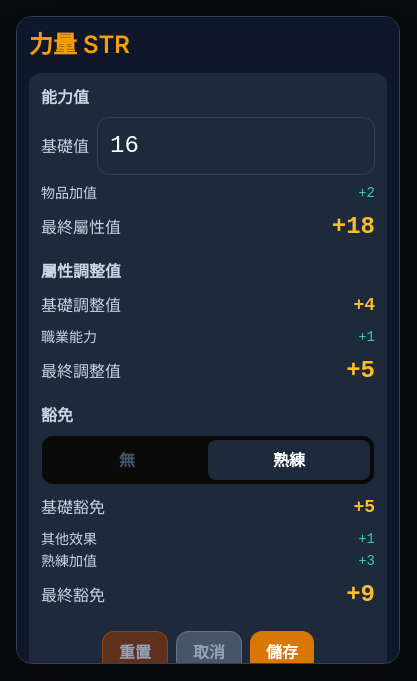
Test: AbilityEditModal › 切換「無」時不顯示熟練加值，最終豁免只剩基礎豁免與其他來源
Click the button "無": (127, 460) [46,440,208,480]
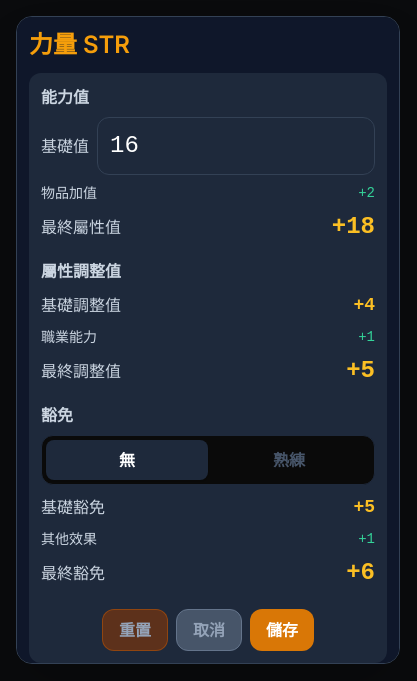
Expected: the text "熟練加值" is gone
Expected: the text "最終豁免" shows "+6", [41,557,375,589]
